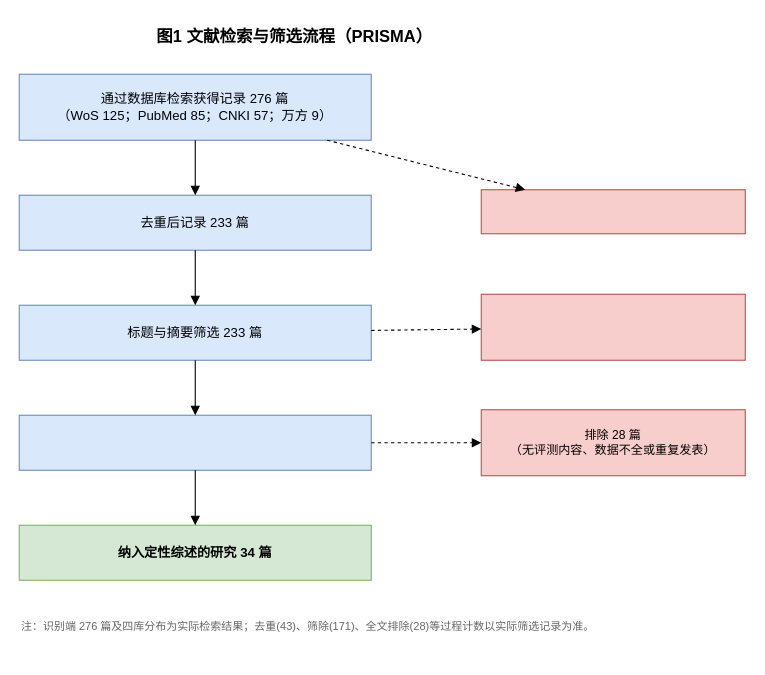
Image size: 765x675. Some labels were removed from this diagram. The centre of each missing label's shape, as x and y in pixels:
"全文评估 62 篇" goes at (x=194, y=442).
"剔除重复 43 篇" goes at (x=612, y=211).
"排除 171 篇 （中药药理、临床疗效试验、机器翻译等主题不符）" goes at (x=612, y=326).
